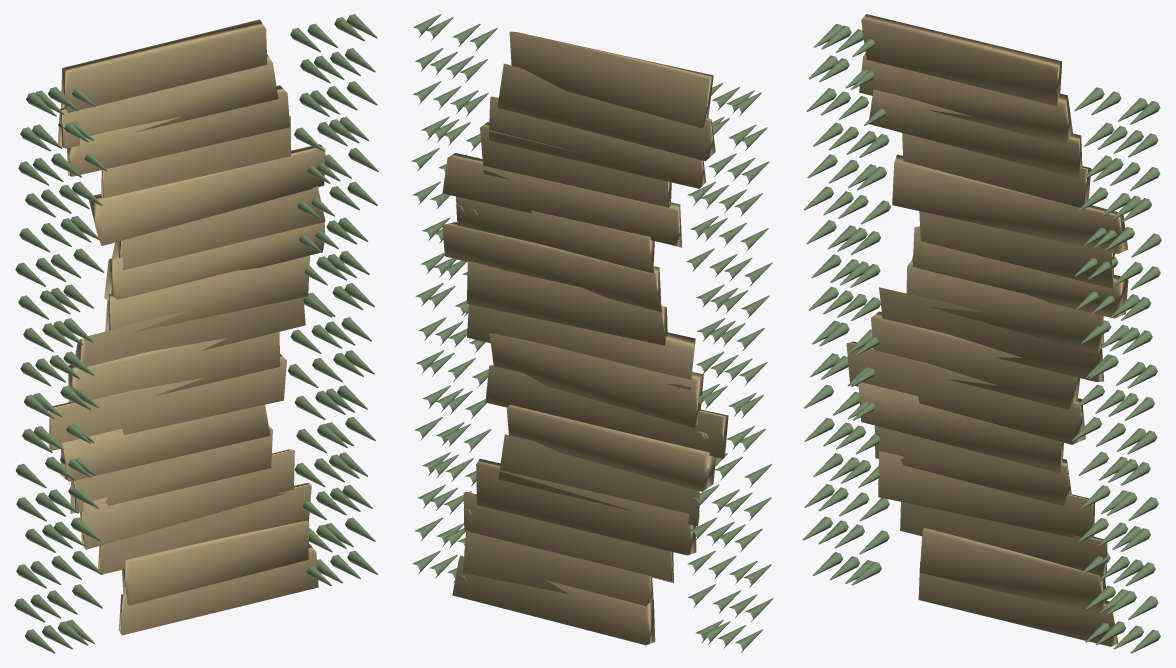
Rendered from grass_edge_path_hd.glb.
3 renders of one model, left to right at view 1: azimuth 30°, elevation 25°; view 2: azimuth 150°, elevation 25°; view 3: azimuth 330°, elevation 25°, orthographic.
Bounding box in the file's own units: 3.44 × 5.52 × 0.48.
